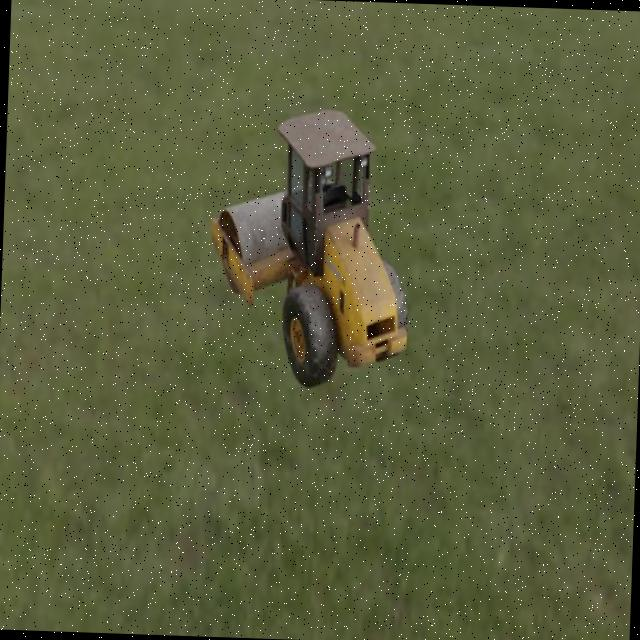Roller: (204, 104, 415, 392)
